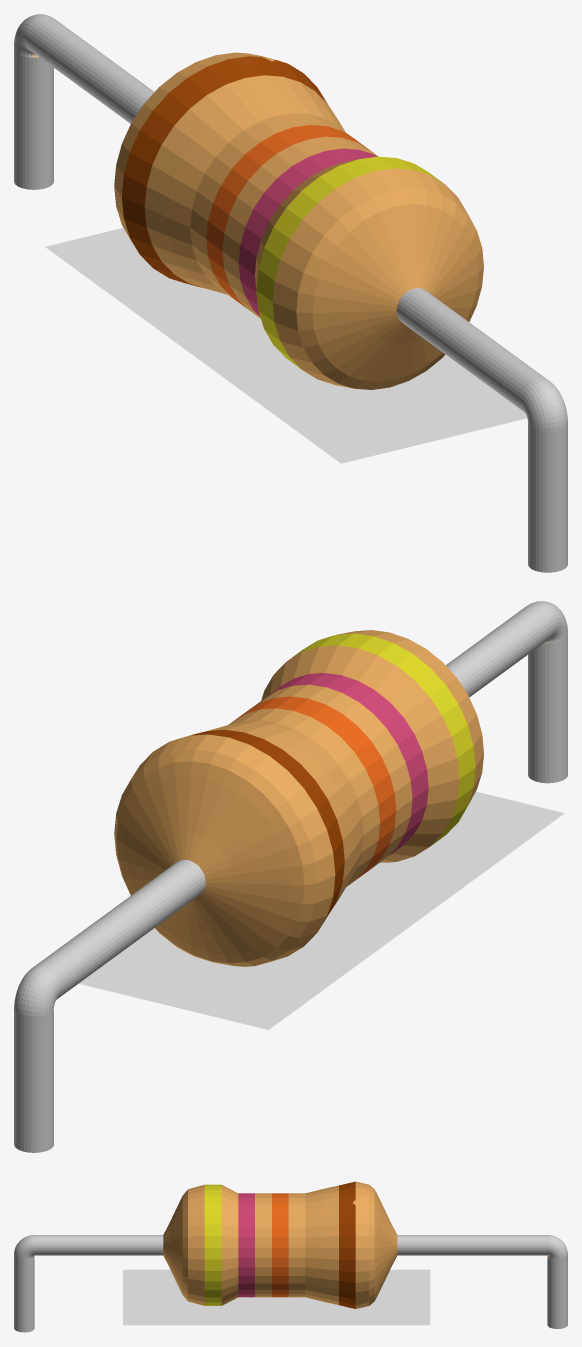
File: R5_tan_1.gltf
The picture shows the model from 3 angles, top to bottom: view 1: azimuth 30°, elevation 25°; view 2: azimuth 150°, elevation 25°; view 3: azimuth 270°, elevation 25°; orthographic projection. The views are drawn at different scales.
Parts seen in each view (by area): view 1: R5_tan_1, R5_tan_1_plane; view 2: R5_tan_1, R5_tan_1_plane; view 3: R5_tan_1, R5_tan_1_plane.
Part boxes in pixels (<box>): R5_tan_1: <box>14,14,567,572</box>; R5_tan_1_plane: <box>45,227,527,463</box>; R5_tan_1: <box>14,601,567,1152</box>; R5_tan_1_plane: <box>79,791,564,1029</box>; R5_tan_1: <box>14,1181,567,1332</box>; R5_tan_1_plane: <box>123,1269,430,1325</box>.
Size of the model in its own units: 0.0161 by 0.0189 by 0.0676.
